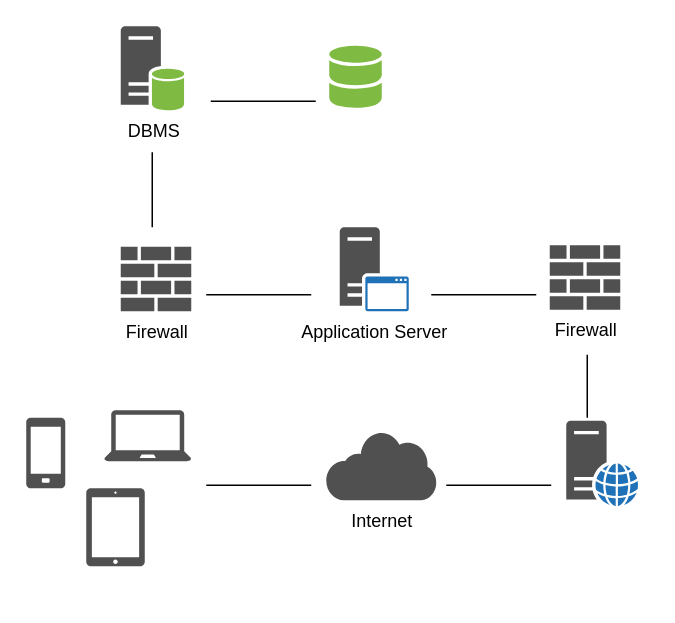
Image size: 675x623. Some labels were removed from this diagram. Here are the shapes that lost their labels. From the top down, the centre of each, then its label:
point (354, 76): Database
point (602, 463): Web Server
point (115, 527): Users
